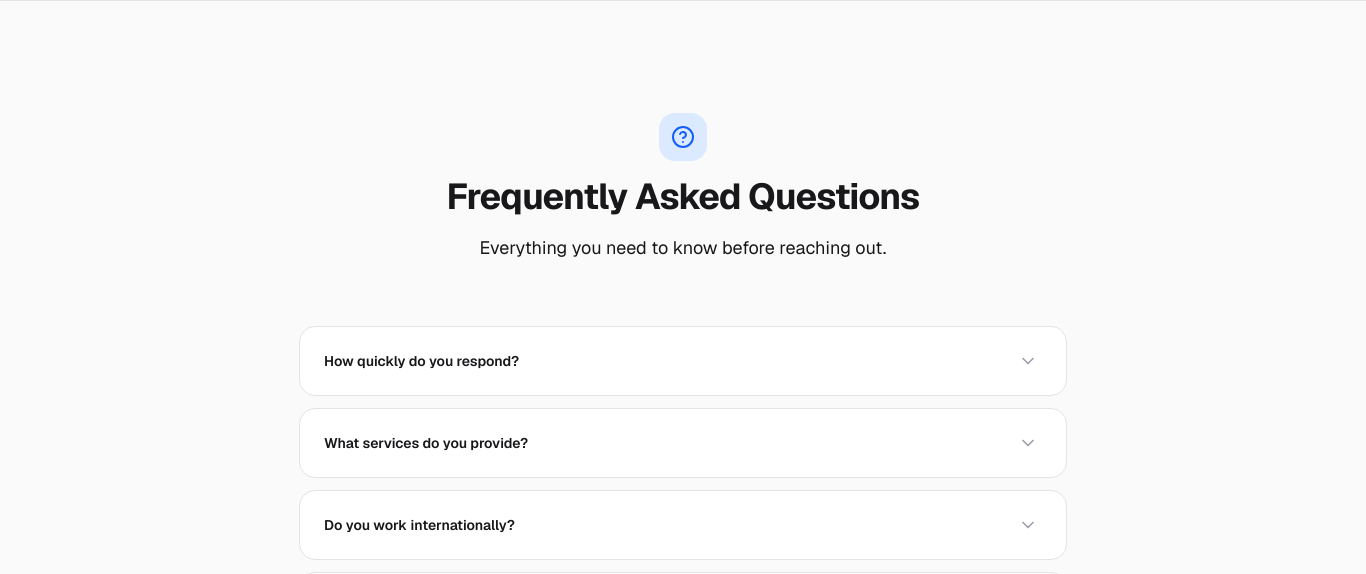
Test case: FAQSection › closes previously open FAQ when a new one is opened
This screenshot has width=1366, height=574.
Expected: the text "How quickly do you respond?" is shown, [324,351,535,371]
Open first FAQ
Click the button "How quickly do you respond?".
click(422, 361)  # box [300,327,1066,395]
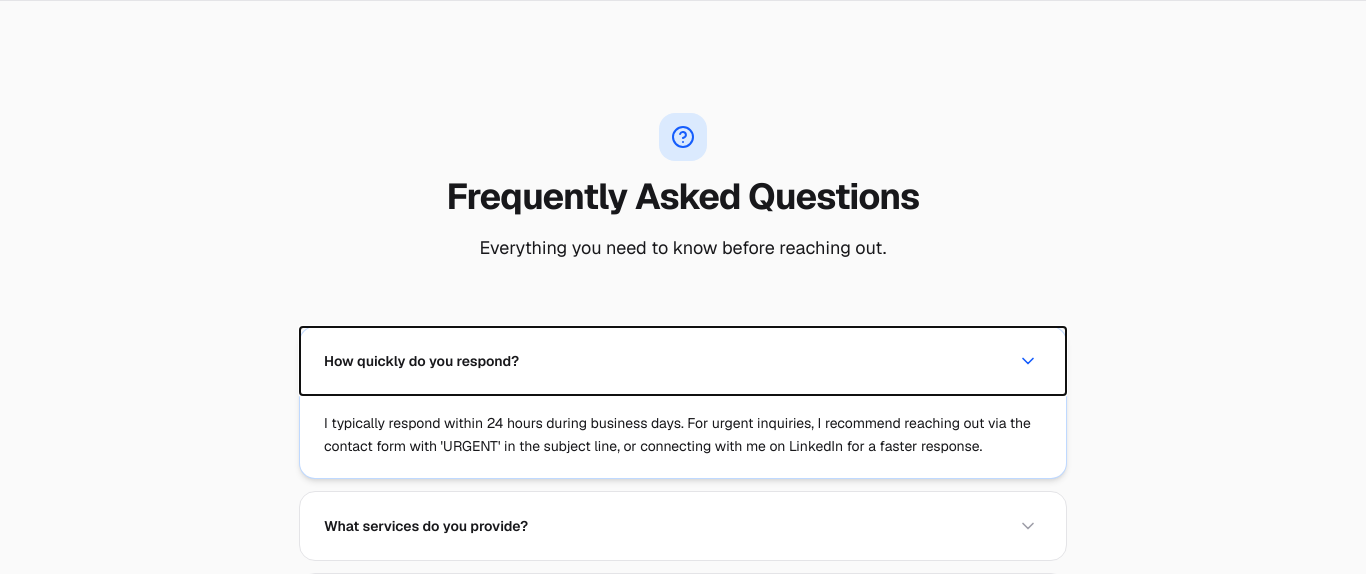
Open second FAQ - first should close
Click the button "What services do you provide?".
click(426, 526)  # box [300,492,1066,560]
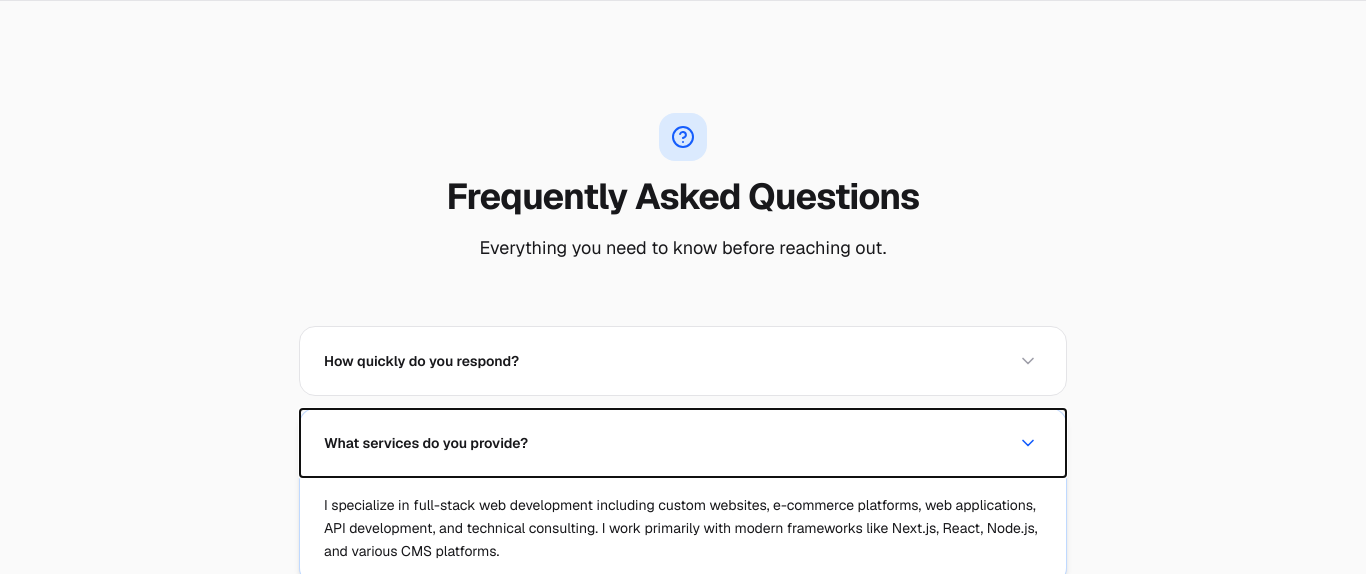
Result: the button "What services do you provide?" is expanded at [300,409,1066,477]
